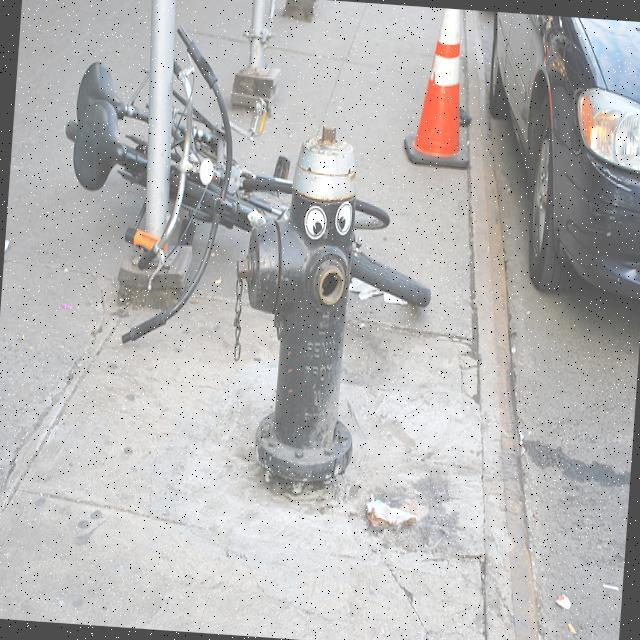fire_hydrant: (221, 117, 374, 496)
